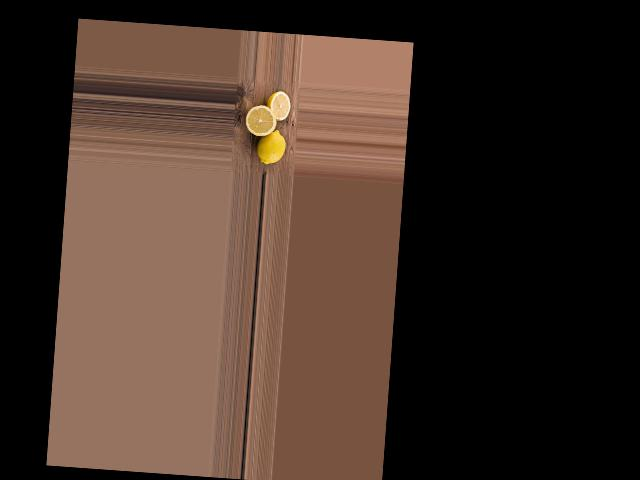lemon: (255, 128, 290, 164)
